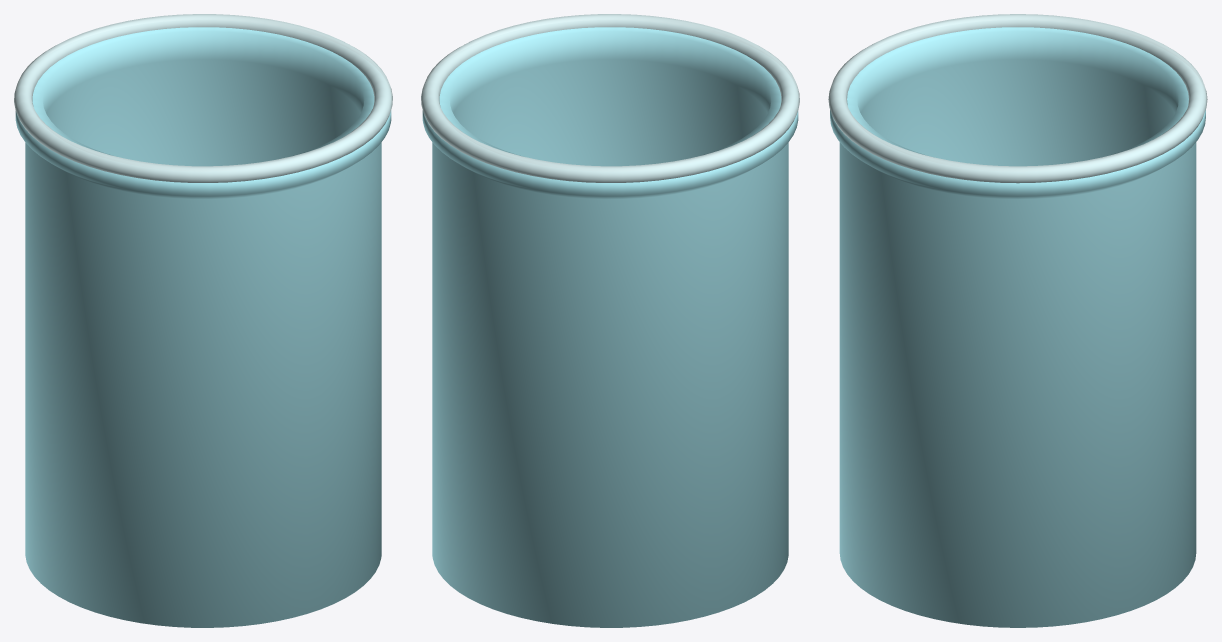
The model's file is beaker.glb.
3 views of the same model, side by side, from view 1: azimuth 30°, elevation 25°; view 2: azimuth 150°, elevation 25°; view 3: azimuth 270°, elevation 25° (orthographic).
Visible parts, largest first — view 1: beaker; view 2: beaker; view 3: beaker.
Part boxes in pixels (x1,y1,x2,y2): beaker: [14, 14, 392, 627]; beaker: [421, 14, 799, 627]; beaker: [828, 14, 1207, 627].
Bounding box in the file's own units: 0.978 × 1.31 × 0.978.
